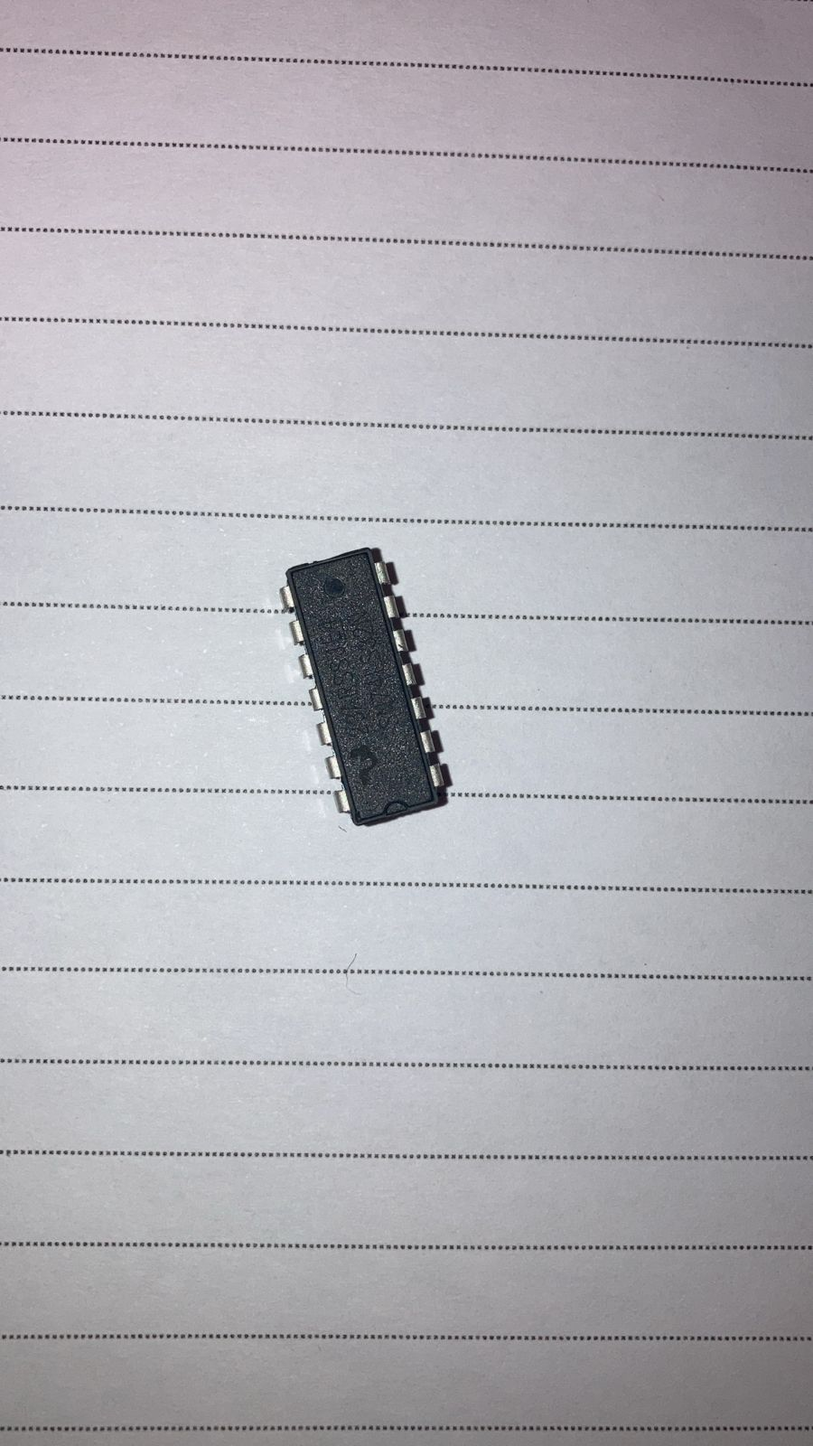IC: (268, 537, 456, 833)
notch: (383, 798, 411, 820)
